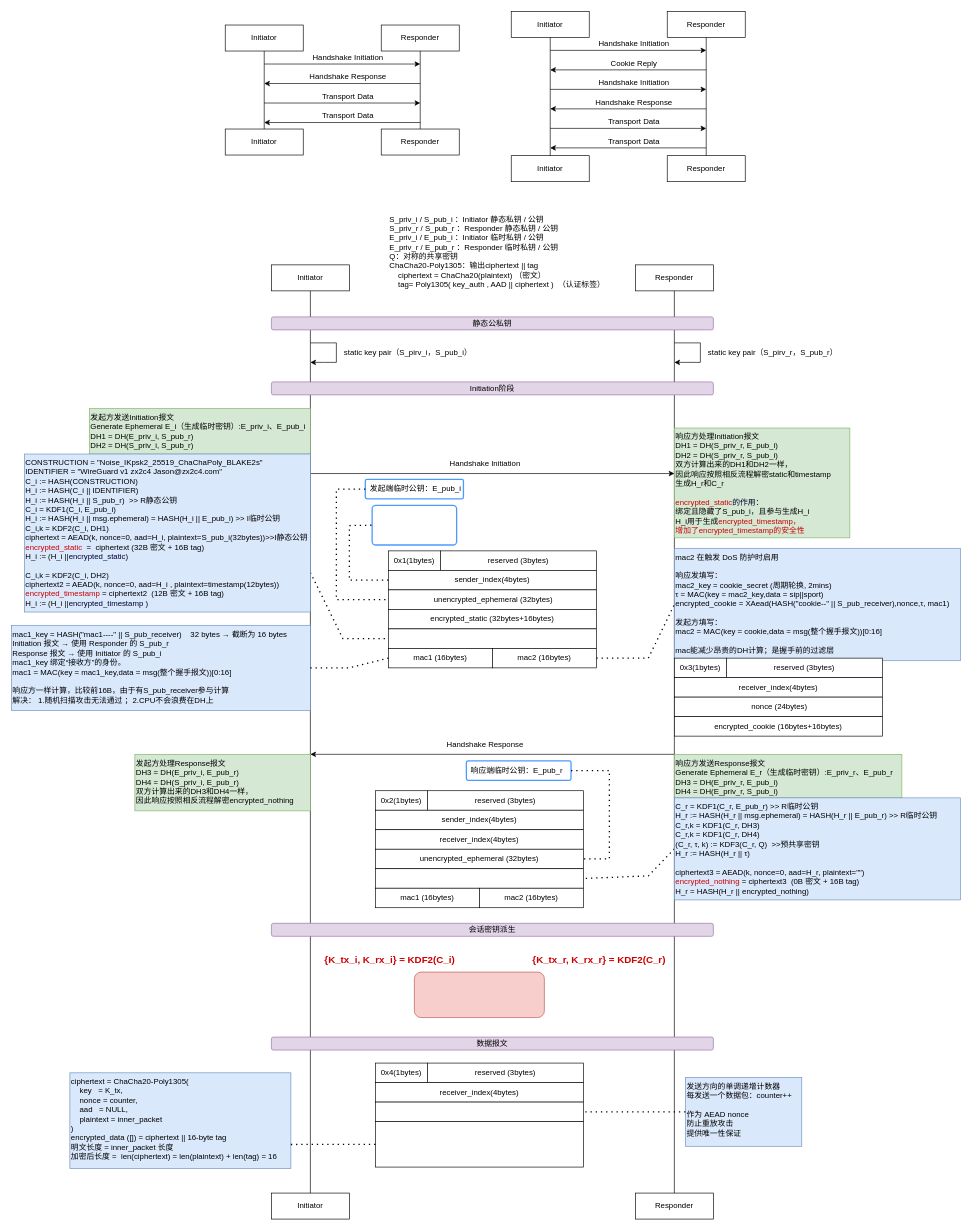
This 972x1230 diagram has some shape labels left out. The centre of each missing label's shape, as x and y in pixels:
"counter(8bytes)" goes at point 479,1111.
"encrypted_data ([])" goes at point 479,1144.
"encrypted_nothing (0bytes+16bytes)" goes at point 479,878.
"encrypted_timestamp (12bytes+16bytes)" goes at point 492,638.
"K_tx_i = K_rx_r K_rx_i = K_tx_r" goes at point 479,994.
"发起端随机生成 用于： 标识本次握手上下文 后续 Response 引用" goes at point 414,524.
